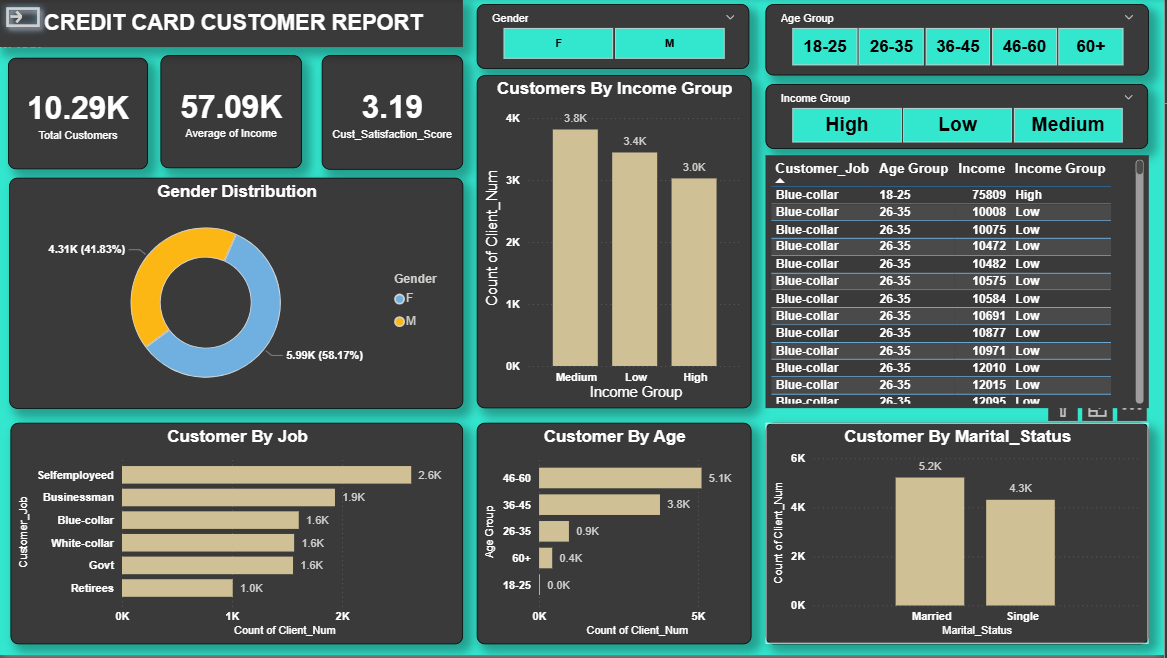

Layout of this report page (visuals, bound fields, positions):
{"tool":"powerbi","page":{"name":"customer report","canvas":[1280,720],"ordinal":0},"visuals":[{"type":"card","fields":{"Values":["CountNonNull(customer.Client_Num)"]},"box":[13.7,54.9,124.9,111.1],"z":0},{"type":"card","fields":{"Values":["Avg(customer.Income)"]},"box":[148.2,53.5,116.6,111.1],"z":1000},{"type":"card","fields":{"Values":["Avg(customer.Cust_Satisfaction_Score)"]},"box":[277.2,53.5,122.1,112.5],"z":2000},{"type":"slicer","fields":{"Values":["customer.Age Group"]},"box":[842.5,0,419.9,83.7],"z":3000},{"type":"slicer","fields":{"Values":["customer.Income Group"]},"box":[771.2,93.3,491.3,71.4],"z":4000},{"type":"pieChart","title":"Gender Distribution","fields":{"Category":["customer.Gender"],"Y":["CountNonNull(customer.Client_Num)"]},"box":[771.2,177,234.6,271.7],"z":5000},{"type":"clusteredBarChart","title":"Customer By Age","fields":{"Category":["customer.Age Group"],"Y":["CountNonNull(customer.Client_Num)"]},"box":[550.3,465.2,301.9,242.9],"z":6000},{"type":"clusteredColumnChart","title":"Customers By Income Group","fields":{"Category":["customer.Income Group"],"Y":["CountNonNull(customer.Client_Num)"]},"box":[550.3,83.7,209.9,365],"z":7000},{"type":"clusteredBarChart","title":"Customer By Job","fields":{"Category":["customer.Customer_Job"],"Y":["CountNonNull(customer.Client_Num)"]},"box":[13.7,465.2,524.2,242.9],"z":8000},{"type":"actionButton","title":"Go To Transition Report","box":[0,5.1,108.9,47.7],"z":9000},{"type":"columnChart","title":"Customer By Marital_Status","fields":{"Category":["customer.Marital_Status"],"Y":["CountNonNull(CreditCard.Client_Num)"]},"box":[861.8,465.2,400.7,242.9],"z":10000},{"type":"textbox","box":[0,0,537.9,52.1],"z":11000},{"type":"actionButton","box":[0,0,54.9,39.8],"z":12000},{"type":"cardVisual","fields":{"Data":["CreditCard.Total Revenue"]},"box":[408.9,53.5,129,111.1],"z":13000},{"type":"lineChart","title":"Revenue Trend By Gender","fields":{"Series":["customer.Gender"],"Y":["CreditCard.Total Revenue"],"Category":["CreditCard.Month Name"]},"box":[13.7,171.5,524.2,284],"z":14000},{"type":"pivotTable","fields":{"Rows":["customer.Income Group","customer.Age Group","CreditCard.Card_Category","customer.Gender"],"Values":["CreditCard.Total Customers","CreditCard.Total Revenue","CreditCard.Total Transactions","CreditCard.Avg Revenue per Customer"]},"box":[1016.8,177,256.6,271.7],"z":15000},{"type":"slicer","fields":{"Values":["customer.Gender"]},"box":[550.3,0,286.8,68.6],"z":16000}]}

Visuals, with their boxes in screenshot pixels (x1, y1, x2, y2), scaled from the page's 1280x720 canvas onto the 1167x658 screenshot:
card - CountNonNull(customer.Client_Num): 12,50,126,152
card - Avg(customer.Income): 135,49,241,150
card - Avg(customer.Cust_Satisfaction_Score): 253,49,364,152
slicer - customer.Age Group: 768,0,1151,76
slicer - customer.Income Group: 703,85,1151,151
"Gender Distribution" pieChart: 703,162,917,410
"Customer By Age" clusteredBarChart: 502,425,777,647
"Customers By Income Group" clusteredColumnChart: 502,76,693,410
"Customer By Job" clusteredBarChart: 12,425,490,647
"Go To Transition Report" actionButton: 0,5,99,48
"Customer By Marital_Status" columnChart: 786,425,1151,647
textbox: 0,0,490,48
actionButton: 0,0,50,36
cardVisual - CreditCard.Total Revenue: 373,49,490,150
"Revenue Trend By Gender" lineChart: 12,157,490,416
pivotTable - customer.Income Group x customer.Age Group: 927,162,1161,410
slicer - customer.Gender: 502,0,763,63
